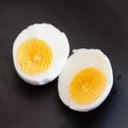begg: (15, 24, 67, 80), (70, 49, 113, 110)
